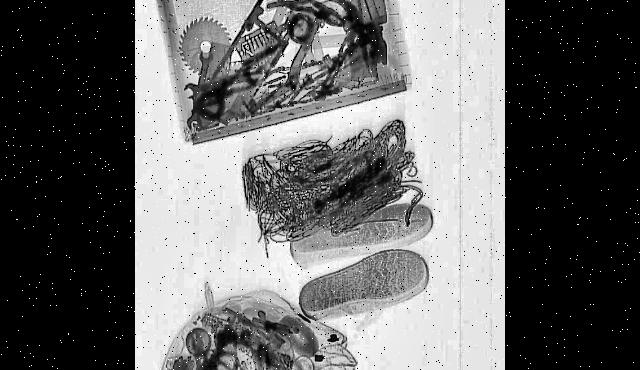Pliers: (265, 0, 347, 38), (265, 0, 347, 11)
